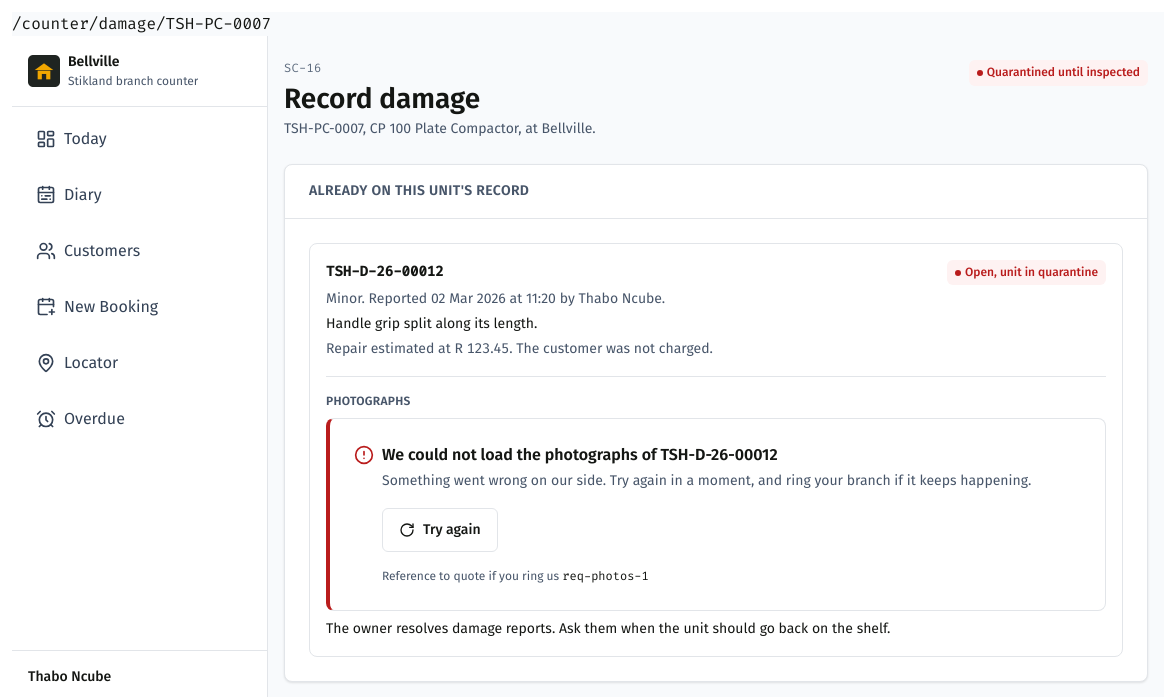
the list of photographs › says so with the reference when the list fails, and reads it again on a retry
Expected: the text "req-photos-1" is shown, [562, 568, 649, 584]
Click the button "Try again" at (440, 530), box [382, 508, 498, 552]
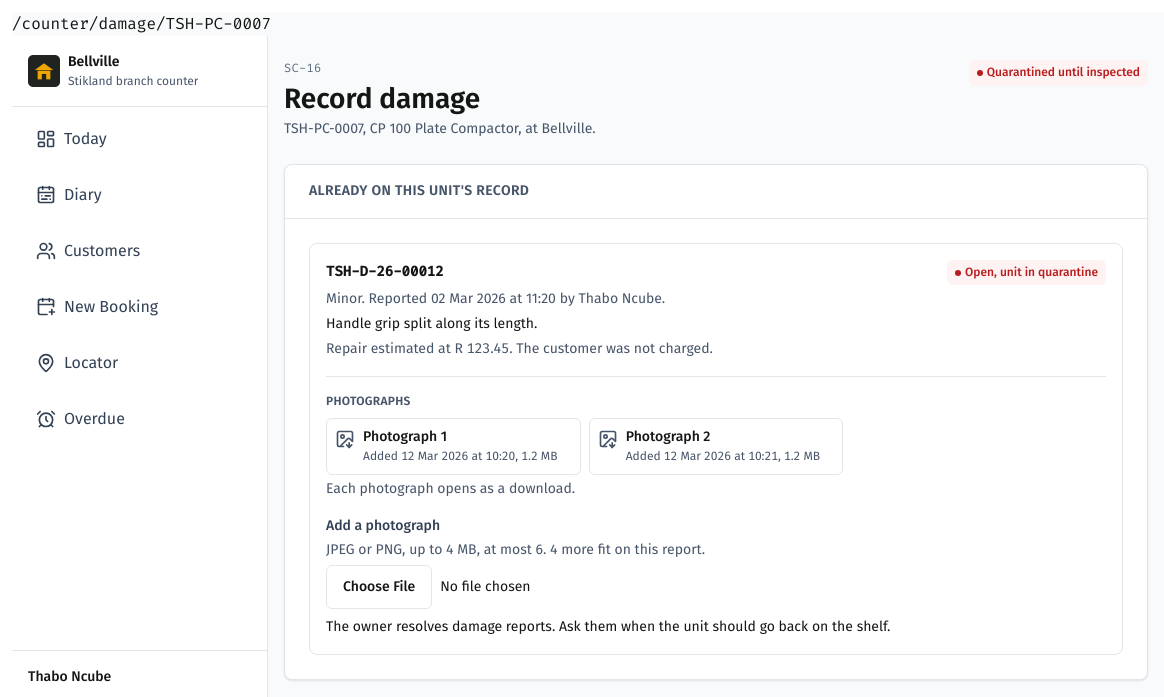
Now the button named "Photograph 2 of" is shown, box [589, 418, 843, 475]
